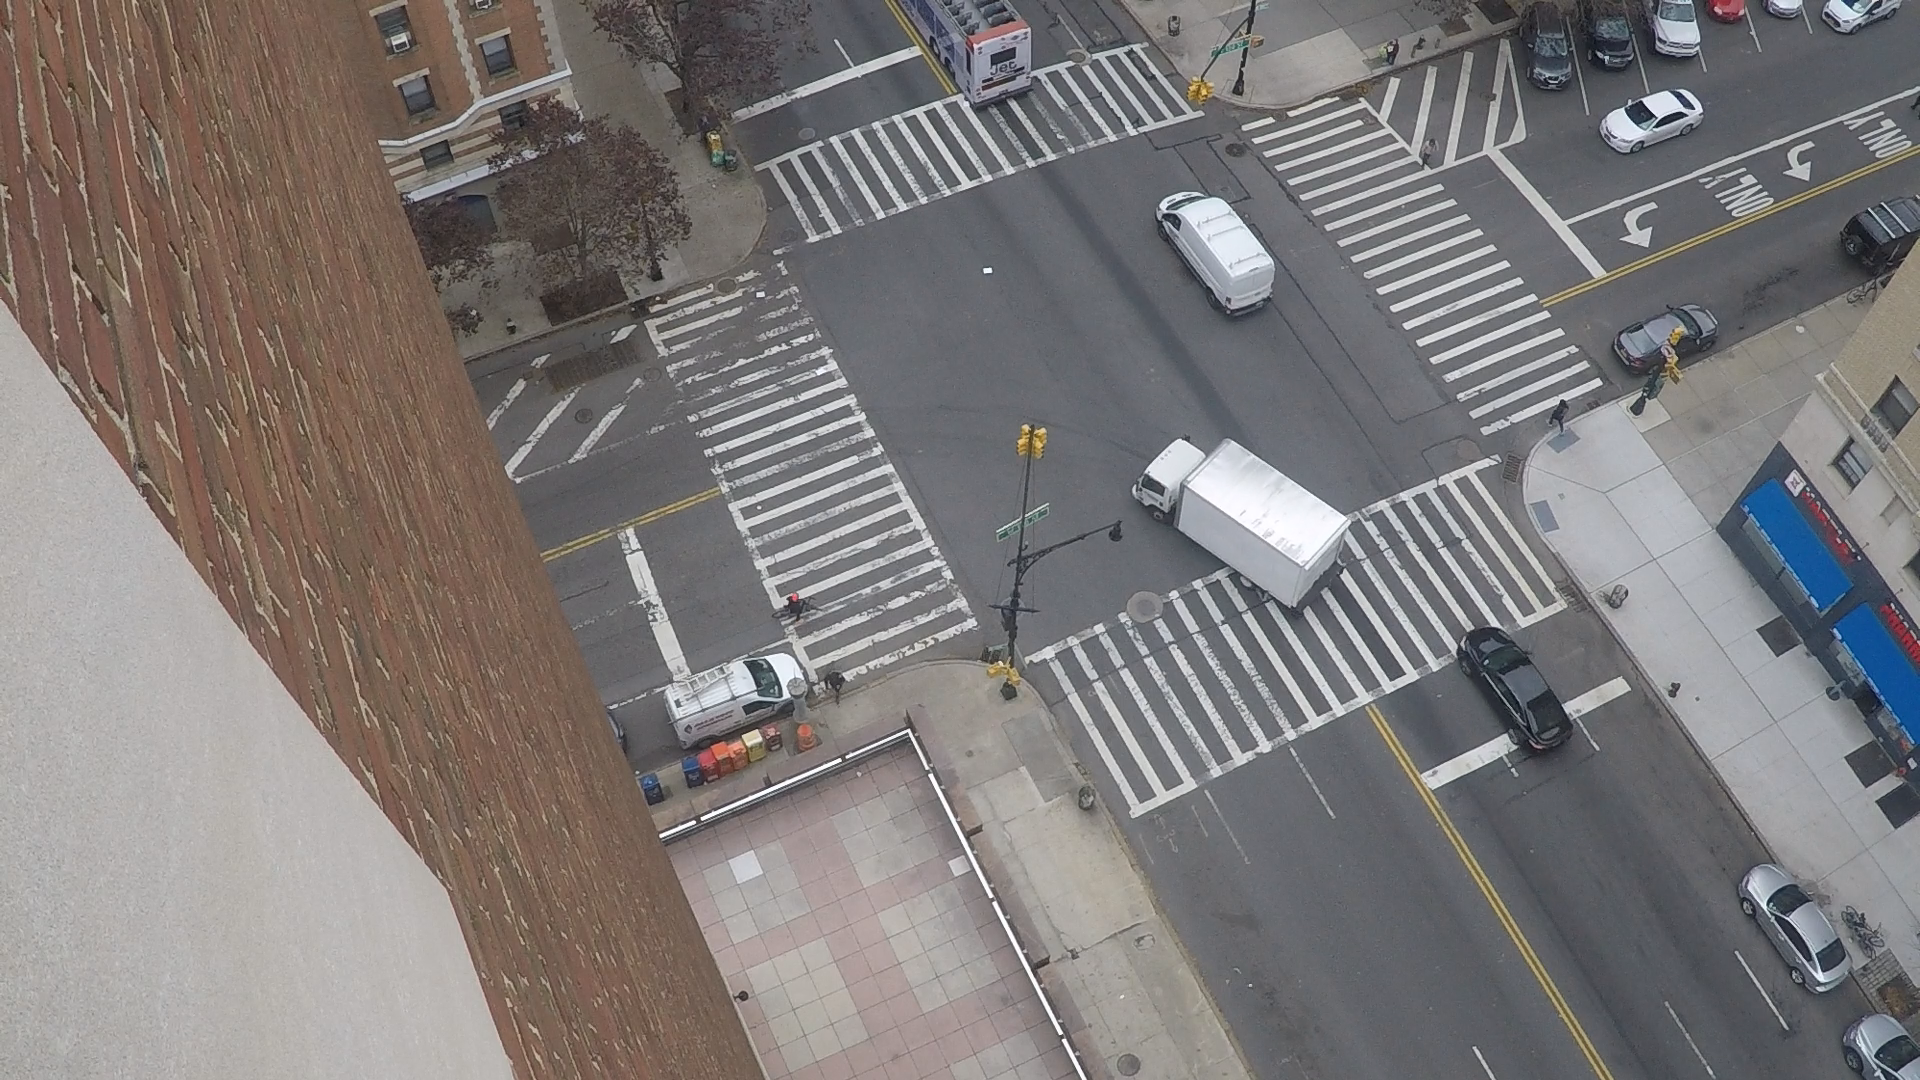Bus: (898, 0, 976, 109)
Car: (1635, 0, 1636, 18), (1760, 0, 1762, 8)
